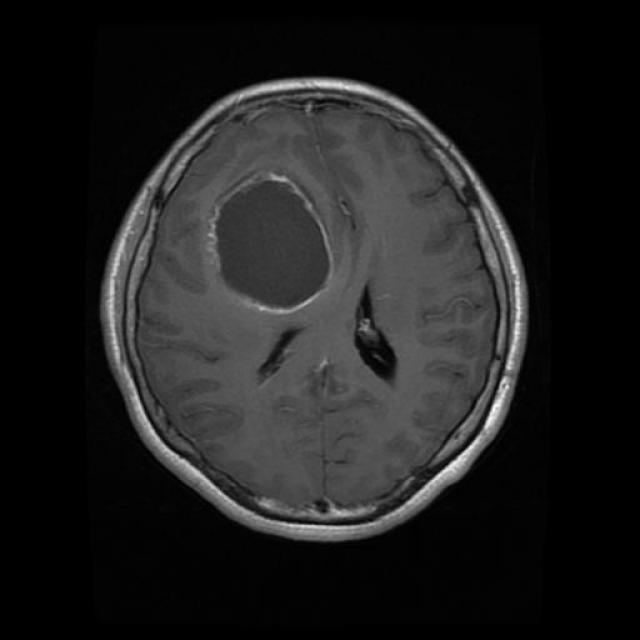Brain-Tumor: (204, 163, 350, 323)
